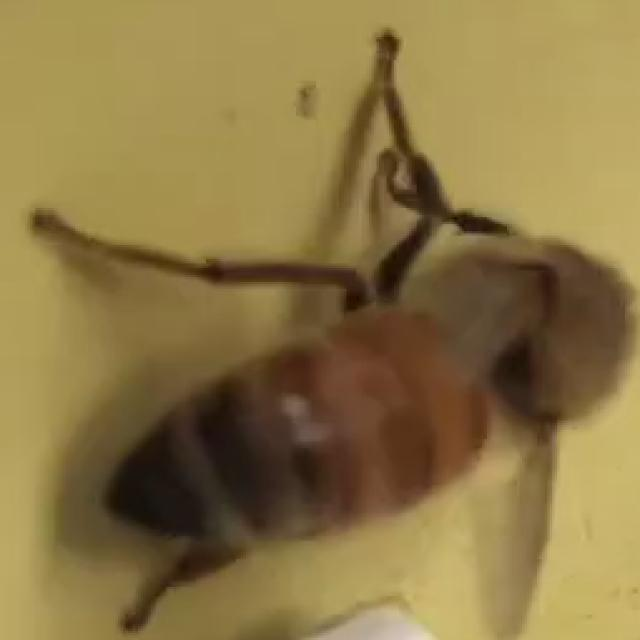honeybee: (48, 94, 609, 606)
